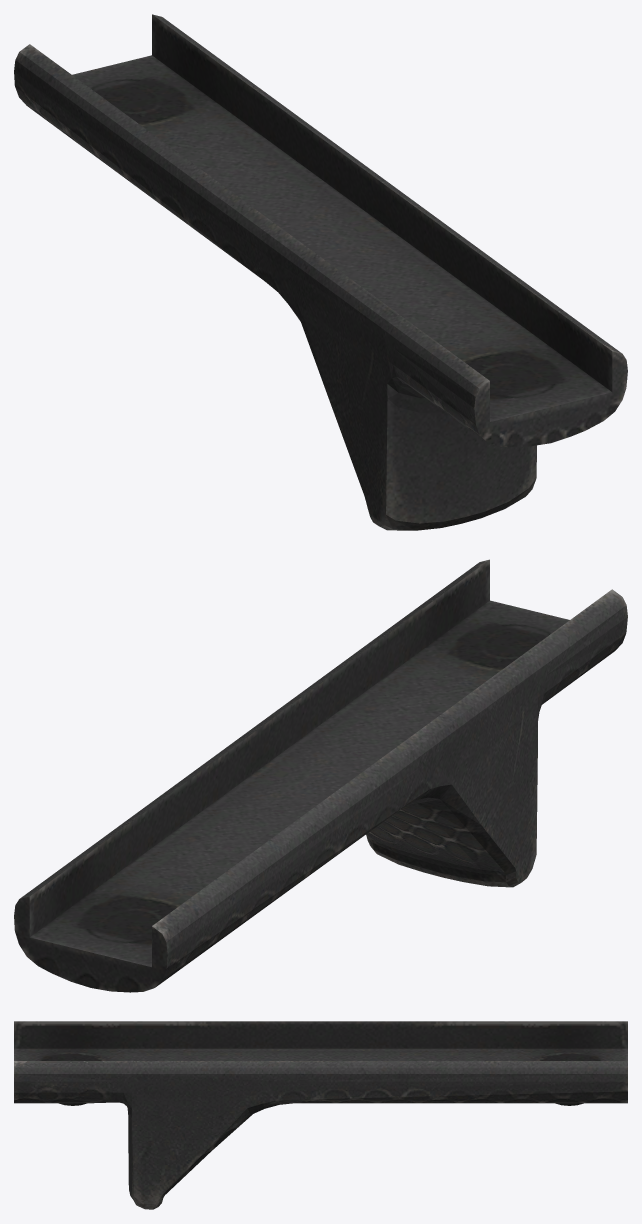
The picture shows the model from 3 angles, top to bottom: view 1: azimuth 30°, elevation 25°; view 2: azimuth 150°, elevation 25°; view 3: azimuth 270°, elevation 25°; orthographic projection. The views are drawn at different scales.
Visible parts, largest first — view 1: TW_5d123b7dd7ad1a004f01b262_PZ_Import; view 2: TW_5d123b7dd7ad1a004f01b262_PZ_Import; view 3: TW_5d123b7dd7ad1a004f01b262_PZ_Import.
Boxes of the visible parts, x1,y1,x2,y2 form: TW_5d123b7dd7ad1a004f01b262_PZ_Import: (14, 14, 627, 530); TW_5d123b7dd7ad1a004f01b262_PZ_Import: (14, 559, 627, 992); TW_5d123b7dd7ad1a004f01b262_PZ_Import: (14, 1021, 627, 1209).
Bounding box in the file's own units: 0.011 × 0.0571 × 0.0156.
Materials: 1 (1 with a texture image).
